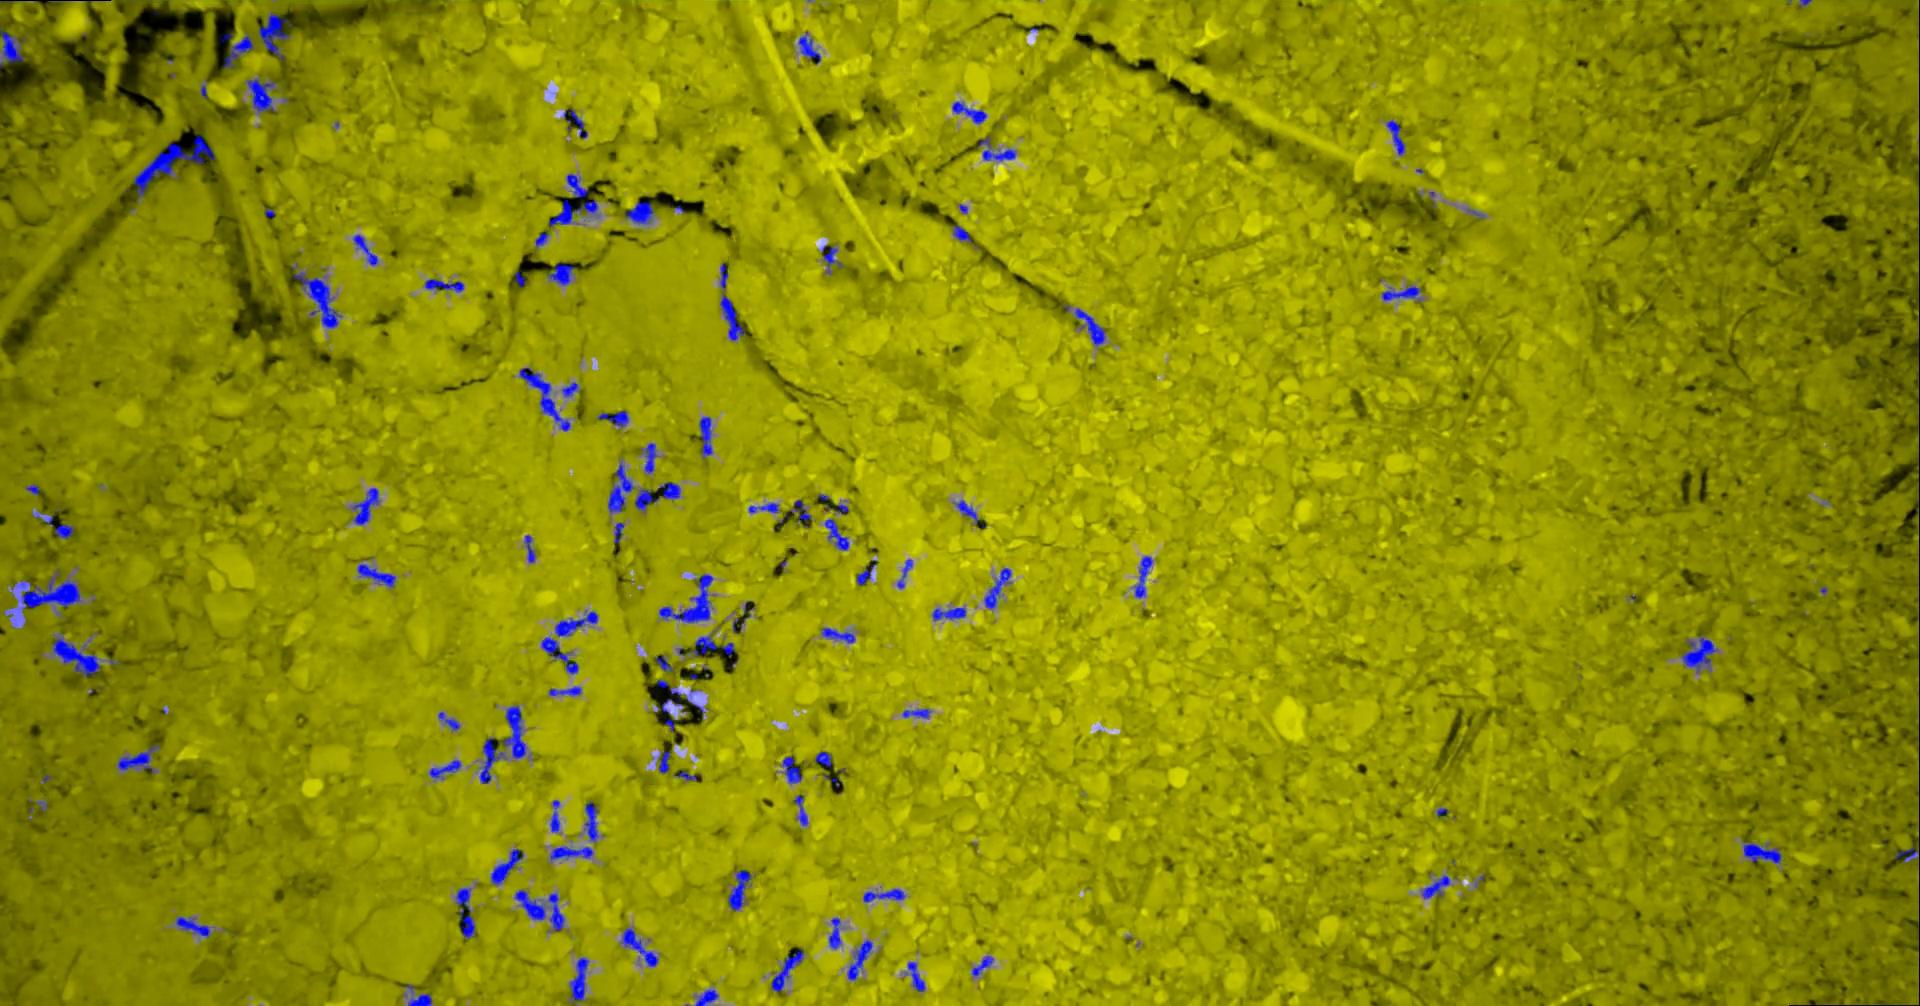ant: (540, 610, 597, 674), (519, 367, 570, 431), (291, 271, 342, 328), (658, 573, 712, 622), (51, 633, 102, 676), (719, 262, 744, 340), (258, 11, 290, 58), (770, 948, 803, 992), (621, 929, 658, 967), (634, 481, 681, 511), (1680, 634, 1716, 672), (549, 198, 597, 226), (607, 461, 632, 512), (117, 744, 159, 774), (503, 705, 526, 758), (479, 737, 505, 782), (657, 687, 684, 730), (490, 848, 523, 884), (1074, 307, 1105, 345), (984, 567, 1011, 608), (350, 486, 378, 525), (847, 939, 872, 981), (0, 27, 25, 67), (455, 887, 475, 937), (688, 633, 733, 655), (223, 36, 253, 69), (356, 563, 395, 587), (728, 869, 750, 909), (514, 889, 545, 920), (248, 77, 276, 111), (954, 499, 985, 527), (569, 956, 588, 1002), (1742, 841, 1782, 862), (978, 137, 1015, 160), (352, 234, 377, 265), (1134, 555, 1152, 598), (824, 518, 848, 550), (797, 30, 820, 64), (731, 600, 754, 633), (951, 102, 985, 123), (175, 916, 210, 937), (563, 108, 587, 138), (783, 499, 810, 526), (1385, 119, 1404, 155), (1421, 874, 1449, 898), (623, 201, 653, 224), (1382, 286, 1421, 302), (547, 892, 564, 931), (1895, 836, 1919, 862), (428, 760, 460, 779), (549, 846, 592, 860), (698, 417, 712, 459), (546, 263, 573, 285), (822, 245, 842, 273), (583, 800, 597, 841), (863, 888, 904, 902), (905, 962, 924, 991), (424, 278, 463, 292), (597, 410, 629, 427), (856, 559, 876, 584), (782, 756, 801, 782), (566, 173, 587, 197), (822, 627, 855, 641), (897, 559, 912, 588), (794, 794, 808, 826), (931, 607, 965, 620), (971, 955, 992, 976), (437, 711, 458, 730), (644, 442, 657, 473), (828, 917, 841, 948), (952, 224, 971, 243), (695, 989, 717, 1005), (549, 799, 559, 832), (51, 523, 72, 539), (748, 502, 778, 512), (658, 749, 670, 774), (549, 686, 582, 695), (655, 654, 672, 671), (814, 751, 830, 767), (524, 535, 535, 561), (561, 382, 580, 396), (408, 993, 430, 1005), (902, 708, 930, 716), (674, 770, 696, 780), (613, 522, 623, 542), (535, 232, 549, 246), (1917, 447, 1919, 514), (1917, 377, 1919, 434)
